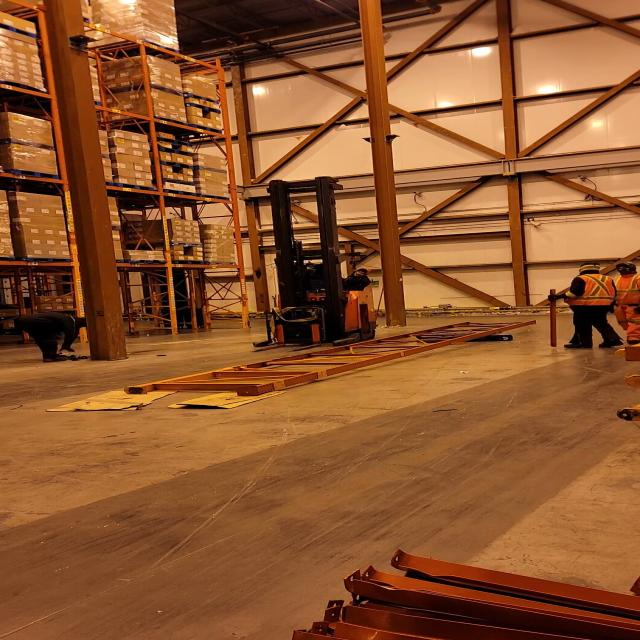forklift: (250, 182, 378, 350)
human: (553, 261, 622, 351), (12, 308, 107, 362), (605, 262, 640, 344), (327, 262, 379, 290)
objectofinterest: (124, 315, 540, 398), (44, 381, 183, 413), (163, 383, 294, 411), (470, 330, 520, 346)
